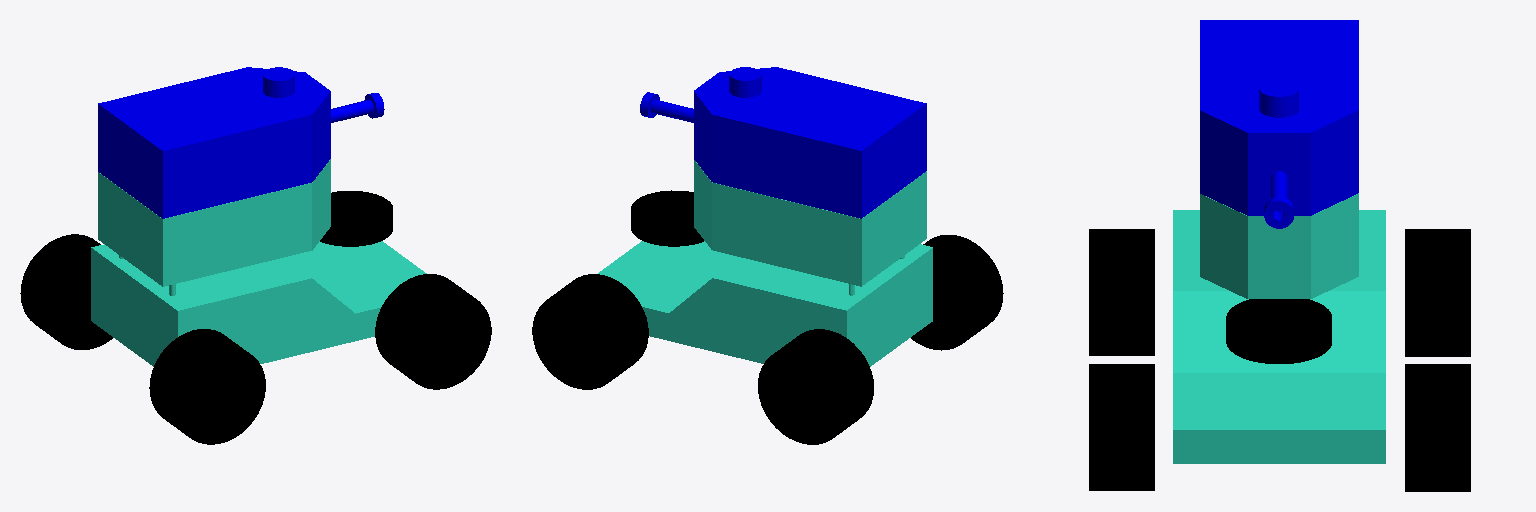
URDF robot description (abot_model):
<?xml version="1.0" encoding="utf-8"?>
<robot
  name="abot_model">
<!--*****************base_link************************-->
  <link
    name="base_link">
    <inertial>
      <origin
        xyz="0.0037371271395169 0.000509597410569076 0.0628578663830573"
        rpy="0 0 0" />
      <mass
        value="0.734774769093734" />
      <inertia
        ixx="0.00304079703267396"
        ixy="6.73701058783062E-08"
        ixz="-6.50029706905171E-08"
        iyy="0.0044781909611876"
        iyz="-1.06452904751068E-07"
        izz="0.00669492338035859" />
    </inertial>
    <visual>
      <origin
        xyz="0 0 0"
        rpy="0 0 0" />
      <geometry>
        <mesh
          filename="package://abot_model/meshes/base_link.STL" />
      </geometry>
      <material
        name="">
        <color
           rgba=" 0.22352 0.89019 0.77647 1" />
      </material>
    </visual>
    <collision>
      <origin
        xyz="0 0 0"
        rpy="0 0 0" />
      <geometry>
        <mesh
          filename="package://abot_model/meshes/base_link.STL" />
      </geometry>
    </collision>
  </link>

<gazebo reference="base_link">
    <material>Gazebo/Blue</material>
</gazebo>
<!--***************link_left_w**************************-->
  <link
    name="link_left_w">
    <inertial>
      <origin
        xyz="-2.9684E-05 0.011721 -0.000134"
        rpy="0 0 0" />
      <mass
        value="0.17861" />
      <inertia
        ixx="0.00013111"
        ixy="1.88E-20"
        ixz="-2.588E-10"
        iyy="0.00019458"
        iyz="7.7371E-21"
        izz="0.00013112" />
    </inertial>
    <visual>
      <origin
        xyz="0 0 0"
        rpy="0 0 0" />
      <geometry>
        <mesh
          filename="package://abot_model/meshes/link_left_w.STL" />
      </geometry>
      <material
        name="">
        <color rgba="0 0 0 0.95"/>
      </material>
    </visual>
    <collision>
      <origin
        xyz="0 0 0"
        rpy="0 0 0" />
      <geometry>
        <mesh
          filename="package://abot_model/meshes/link_left_w.STL" />
      </geometry>
    </collision>
  </link>
<gazebo reference="link_left_w">
    <material>Gazebo/Grey</material>
</gazebo>
<!--***************joint_left_w*************************-->
  <joint
    name="joint_left_w"
    type="continuous">
    <origin
      xyz="0.12024 0.10802 0.028264"
      rpy="0 0 0" />
    <parent
      link="base_link" />
    <child
      link="link_left_w" />
    <axis
      xyz="0 1 0" />
    <limit
      lower="-3.14"
      upper="3.14"
      effort="100"
      velocity="0" />
    <safety_controller
      k_velocity="0" />
  </joint>
<!--*****************link_left_s************************-->
  <link
    name="link_left_s">
    <inertial>
      <origin
        xyz="0.00125052664950205 0.00847211983876833 -0.000229470863907809"
        rpy="0 0 0" />
      <mass
        value="0.178614693254775" />
      <inertia
        ixx="0.00013111186774341"
        ixy="2.1852675113639E-21"
        ixz="-2.58804125525198E-10"
        iyy="0.000194584383981263"
        iyz="7.23887751890145E-21"
        izz="0.000131123764185488" />
    </inertial>
    <visual>
      <origin
        xyz="0 0 0"
        rpy="0 0 0" />
      <geometry>
        <mesh
          filename="package://abot_model/meshes/link_left_s.STL" />
      </geometry>
      <material
        name="">
        <color rgba="0 0 0 0.95"/>
      </material>
    </visual>
    <collision>
      <origin
        xyz="0 0 0"
        rpy="0 0 0" />
      <geometry>
        <mesh
          filename="package://abot_model/meshes/link_left_s.STL" />
      </geometry>
    </collision>
  </link>
<gazebo reference="link_left_s">
    <material>Gazebo/Grey</material>
</gazebo>
<!--*****************joint_left_s************************-->
  <joint
    name="joint_left_s"
    type="continuous">
    <origin
      xyz="-0.12144 0.11128 0.028375"
      rpy="0 0 0" />
    <parent
      link="base_link" />
    <child
      link="link_left_s" />
    <axis
      xyz="0 1 0" />
    <limit
      lower="-3.14"
      upper="3.14"
      effort="100"
      velocity="0" />
    <safety_controller
      k_velocity="0" />
  </joint>
<!--****************link_right_w*************************-->
  <link
    name="link_right_w">
    <inertial>
      <origin
        xyz="-2.56394994314069E-05 -0.00965975962140743 -8.89294989246357E-05"
        rpy="0 0 0" />
      <mass
        value="0.178614693254775" />
      <inertia
        ixx="0.000131111867743409"
        ixy="-1.43666298330474E-21"
        ixz="-2.58804125525959E-10"
        iyy="0.000194584383981263"
        iyz="1.54361367158865E-21"
        izz="0.000131123764185487" />
    </inertial>
    <visual>
      <origin
        xyz="0 0 0"
        rpy="0 0 0" />
      <geometry>
        <mesh
          filename="package://abot_model/meshes/link_right_w.STL" />
      </geometry>
      <material
        name="">
        <color rgba="0 0 0 0.95"/>
      </material>
    </visual>
    <collision>
      <origin
        xyz="0 0 0"
        rpy="0 0 0" />
      <geometry>
        <mesh
          filename="package://abot_model/meshes/link_right_w.STL" />
      </geometry>
    </collision>
  </link>
<gazebo reference="link_right_w">
    <material>Gazebo/Grey</material>
</gazebo>
<!--******************joint_right_w***********************-->
  <joint
    name="joint_right_w"
    type="continuous">
    <origin
      xyz="0.12024 -0.10899 0.028264"
      rpy="0 0 0" />
    <parent
      link="base_link" />
    <child
      link="link_right_w" />
    <axis
      xyz="0 1 0" />
    <limit
      lower="-3.14"
      upper="3.14"
      effort="100"
      velocity="0" />
    <safety_controller
      k_velocity="0" />
  </joint>
<!--******************link_right_s***********************-->
  <link
    name="link_right_s">
    <inertial>
      <origin
        xyz="-1.7496E-07 -0.011748 8.117E-06"
        rpy="0 0 0" />
      <mass
        value="0.17861" />
      <inertia
        ixx="0.00013111"
        ixy="5.8527E-21"
        ixz="-2.588E-10"
        iyy="0.00019458"
        iyz="-3.2413E-21"
        izz="0.00013112" />
    </inertial>
    <visual>
      <origin
        xyz="0 0 0"
        rpy="0 0 0" />
      <geometry>
        <mesh
          filename="package://abot_model/meshes/link_right_s.STL" />
      </geometry>
      <material
        name="">
       <color rgba="0 0 0 0.95"/>
      </material>
    </visual>
    <collision>
      <origin
        xyz="0 0 0"
        rpy="0 0 0" />
      <geometry>
        <mesh
          filename="package://abot_model/meshes/link_right_s.STL" />
      </geometry>
    </collision>
  </link>
<gazebo reference="link_right_s">
    <material>Gazebo/Grey</material>
</gazebo>
<!--******************joint_right_s***********************-->
  <joint
    name="joint_right_s"
    type="continuous">
    <origin
      xyz="-0.12024 -0.10696 0.028161"
      rpy="0 0 0" />
    <parent
      link="base_link" />
    <child
      link="link_right_s" />
    <axis
      xyz="0 1 0" />
    <limit
      lower="-3.14"
      upper="3.14"
      effort="100"
      velocity="0" />
    <safety_controller
      k_velocity="0" />
  </joint>
<!-- **************** shout_link **************** -->
<link name="shout_link">
    <inertial>
        <origin xyz="0 0 0" rpy="0 0 0"/>
        <mass value="0.1"/>   <!-- 请根据实际零件质量修改 -->
        <inertia ixx="0.001" ixy="0" ixz="0" iyy="0.001" iyz="0" izz="0.001"/> <!-- 示例值，需精确计算 -->
    </inertial>
    <visual>
        <origin xyz="0 0 0" rpy="0 0 0"/>
        <geometry>
            <mesh filename="package://abot_model/meshes/shout_link.STL"/>
        </geometry>
        <material name="">
            <color rgba="0 0 1 1"/>  <!-- 蓝色 -->
        </material>
    </visual>
    <collision>
        <origin xyz="0 0 0" rpy="0 0 0"/>
        <geometry>
            <mesh filename="package://abot_model/meshes/shout_link.STL"/>
        </geometry>
    </collision>
</link>

<!-- 固定关节：shout_link 连接到 base_link 正上方 0.158 m 处 -->
<joint name="joint_shout" type="fixed">
    <parent link="base_link"/>
    <child link="shout_link"/>
    <origin xyz="0 0 0.158" rpy="0 0 0"/>   <!-- 正上方，无旋转 -->
    <axis xyz="0 0 0"/>
</joint>

<gazebo reference="shout_link">
    <material>Gazebo/Blue</material>
</gazebo>
<!--***************camera_link**************************-->
  <link
    name="camera_link">
    <inertial>
      <origin
        xyz="0 0 0"
        rpy="0 0 0" />
      <mass
        value="0" />
      <inertia
        ixx="0"
        ixy="0"
        ixz="0"
        iyy="0"
        iyz="0"
        izz="0" />
    </inertial>
    <visual>
      <origin
        xyz="0 0 0"
        rpy="0 0 0" />
      <geometry>
        <mesh
          filename="package://abot_model/meshes/camera_link.STL" />
      </geometry>
      <material
        name="">
        <color
          rgba="1 1 1 1" />
      </material>
    </visual>
    <collision>
      <origin
        xyz="0 0 0"
        rpy="0 0 0" />
      <geometry>
        <mesh
          filename="package://abot_model/meshes/camera_link.STL" />
      </geometry>
    </collision>
  </link>
<gazebo reference="camera_link">
    <material>Gazebo/Grey</material>
</gazebo>
<!--****************joint_camera*************************-->
  <joint
    name="joint_camera"
    type="fixed">
    <origin
      xyz="0.080670132360421 0.000184007776624636 0.128393640072318"
      rpy="0 0 0" />
    <parent
      link="base_link" />
    <child
      link="camera_link" />
    <axis
      xyz="0 0 0" />
    <safety_controller
      k_velocity="0" />
  </joint>

<!--****************************laser_link**************************************-->
<link name="laser_link">
	<visual>
	  <origin xyz="0 0 0" rpy="0 0 0"/>
	  <geometry>
		<cylinder radius="0.04" length="0.02"/>
 	  </geometry>
	  <material name="black">
	  	<color rgba="0 0 0 0.95"/> 
	  </material>
	</visual>	
</link>
<gazebo reference="laser_link">
    <material>Gazebo/Black</material>
</gazebo>
<!--****************************laser_joint**************************************-->
	<joint name="laser_joint" type="fixed">
		<origin xyz="0.1 0 0.1" rpy="0 0 0"/>
		<parent link="base_link"/>
		<child link="laser_link"/>
	</joint>
<!--*********************************base_footprint********************************** -->
	<link name="base_footprint">
	    <visual>
		<origin xyz="0 0 0" rpy="0 0 0" />
		<geometry>
		    <box size="0.001 0.001 0.001" />
		</geometry>
	    </visual>
	</link>
<!--*********************************base_footprint_joint********************************** -->
	<joint name="base_footprint_joint" type="fixed">
	    <origin xyz="0 0 0" rpy="0 0 0" />        
	    <parent link="base_footprint"/>
	    <child link="base_link" />
	</joint>
	<gazebo reference="base_footprint_joint">
	    <turnGravityOff>false</turnGravityOff>
	</gazebo>
<!--*********************************base_imu********************************** -->
	<link name="base_imu">
	    <visual>
		<origin xyz="0.001 0 0" rpy="0 0 0" />
		<geometry>
		    <box size="0.001 0.001 0.001" />
		</geometry>
	    </visual>
	</link>
<!--*********************************imu_joint********************************** -->
	<joint name="imu_joint" type="fixed">
	    <origin xyz="0 0 0" rpy="0 0 0" />        
	    <parent link="base_link"/>
	    <child link="base_imu" />
	</joint>
	<gazebo reference="imu_joint">
	    <turnGravityOff>false</turnGravityOff>
	</gazebo>
<!--****************************laser_joint**************************************-->
<gazebo reference="laser_link">
    <sensor type="ray" name="rplidar">
      <pose>0 0 0 0 0 0</pose>
      <visualize>true</visualize>
      <update_rate>5.5</update_rate>
      <ray>
        <scan>
          <horizontal>
            <samples>360</samples>
            <resolution>1</resolution>
            <min_angle>-3.14</min_angle>
            <max_angle>3.14</max_angle>
          </horizontal>
        </scan>
        <range>
          <min>0.10</min>
          <max>12.0</max>
          <resolution>0.01</resolution>
        </range>
        <noise>
          <type>gaussian</type>
          <mean>0.0</mean>
          <stddev>0.01</stddev>
        </noise>
      </ray>
      <plugin name="gazebo_rplidar" filename=
"libgazebo_ros_laser.so">
        <topicName>/scan</topicName>
        <frameName>laser_link</frameName>
      </plugin>
    </sensor>
  </gazebo>
<!--********************************* camera gazebo**********************************-->
      <gazebo reference="camera_link">
        <sensor type="camera" name="camera1">
          <update_rate>100</update_rate>
          <camera name="head">
            <horizontal_fov>1.3962634</horizontal_fov>
            <image>
              <width>800</width>
              <height>800</height>
              <format>R8G8B8</format>
            </image>
            <clip>
              <near>0.02</near>
              <far>300</far>
            </clip>
            <noise>
              <type>gaussian</type>
              <mean>0.0</mean>
              <stddev>0.007</stddev>
            </noise>
          </camera>
          <plugin name="camera_controller" filename="libgazebo_ros_camera.so">
           <alwaysOn>true</alwaysOn>
            <updateRate>0.0</updateRate>
            <cameraName>camera</cameraName>
            <imageTopicName>image</imageTopicName>
            <cameraInfoTopicName>camera_info</cameraInfoTopicName>
            <frameName>camera_link</frameName>
            <hackBaseline>0.07</hackBaseline>
            <distortionK1>0.0</distortionK1>
            <distortionK2>0.0</distortionK2>
            <distortionK3>0.0</distortionK3>
            <distortionT1>0.0</distortionT1>
            <distortionT2>0.0</distortionT2>
          </plugin>
        </sensor>
      </gazebo>

 <gazebo>
  <plugin name="mecanum_controller" filename="libgazebo_ros_planar_move.so">

    <alwaysOn>true</alwaysOn>
    <robotNamespace>/</robotNamespace>
    <updateRate>100</updateRate>
    <leftFrontJoint>joint_left_w</leftFrontJoint>
    <rightFrontJoint>joint_right_w</rightFrontJoint>
    <leftRearJoint>joint_left_s</leftRearJoint>
    <rightRearJoint>joint_right_s</rightRearJoint>
    <odometryRate>100</odometryRate>
    <wheelSeparation>0.090</wheelSeparation> 
    <wheelDiameter>0.090</wheelDiameter>
    <torque>1</torque>
    <commandTopic>cmd_vel</commandTopic>
    <odometryTopic>odom</odometryTopic>
    <odometryFrame>odom</odometryFrame>
    <robotBaseFrame>base_footprint</robotBaseFrame>
    <broadcastTF>0</broadcastTF> 



  </plugin>
</gazebo>
</robot>

--- Facts derived from the render (not from the file) ---
Views: 3 orthographic renders of the robot side by side, from view 1: azimuth 30°, elevation 25°; view 2: azimuth 150°, elevation 25°; view 3: azimuth 270°, elevation 25°.
Robot: abot_model — 10 links, 9 joints (4 continuous, 5 fixed); root link base_footprint; default pose: all joints at 0.
Visible links, largest first — view 1: base_link, shout_link, link_right_s, link_right_w, link_left_s, laser_link; view 2: base_link, shout_link, link_left_w, link_left_s, link_right_s, laser_link; view 3: base_link, shout_link, link_left_w, link_left_s, link_right_w, link_right_s, laser_link.
Boxes of the visible links, x1=… form: base_link: x1=91, y1=159, x2=426, y2=366; shout_link: x1=98, y1=67, x2=384, y2=218; link_right_s: x1=149, y1=329, x2=265, y2=444; link_right_w: x1=375, y1=274, x2=491, y2=389; link_left_s: x1=20, y1=234, x2=112, y2=349; laser_link: x1=320, y1=191, x2=392, y2=246; base_link: x1=598, y1=160, x2=932, y2=366; shout_link: x1=640, y1=67, x2=926, y2=218; link_left_w: x1=532, y1=274, x2=648, y2=389; link_left_s: x1=758, y1=329, x2=873, y2=444; link_right_s: x1=911, y1=235, x2=1003, y2=350; laser_link: x1=631, y1=190, x2=703, y2=246; base_link: x1=1173, y1=193, x2=1385, y2=463; shout_link: x1=1200, y1=20, x2=1358, y2=228; link_left_w: x1=1405, y1=364, x2=1470, y2=491; link_left_s: x1=1405, y1=229, x2=1470, y2=356; link_right_w: x1=1089, y1=364, x2=1154, y2=490; link_right_s: x1=1089, y1=229, x2=1154, y2=355; laser_link: x1=1226, y1=299, x2=1331, y2=363.
Size in the robot's own frame: 0.336 by 0.2878 by 0.2847 metres.
Meshes: 7 distinct files referenced, 6 mesh visuals loaded (6 binary STL); not drawn: 1 (reference not matched to a file when rendering).
